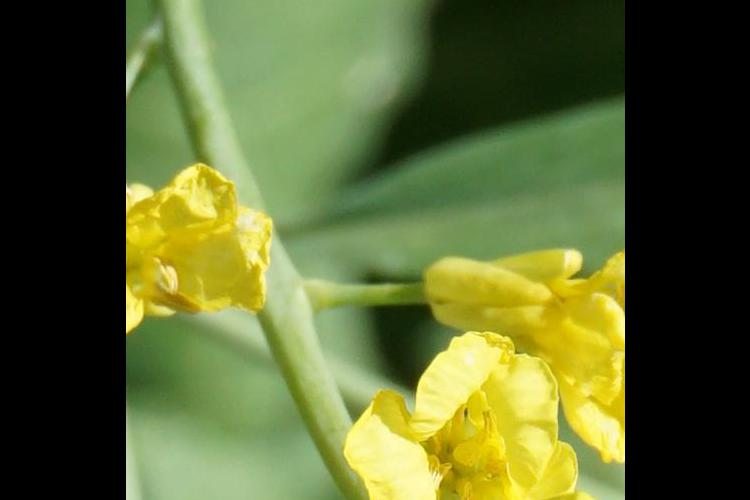yellow: (440, 243, 621, 433), (352, 345, 568, 500), (131, 167, 274, 330)
